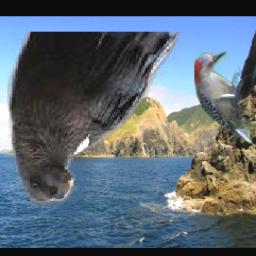Crow: (7, 33, 184, 207)
Woodpecker: (194, 51, 254, 145)
